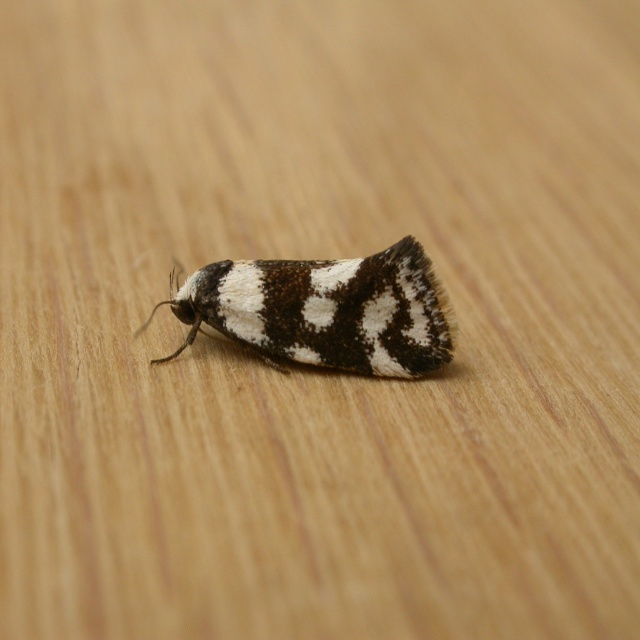Moths and butterflies: (133, 232, 462, 379)
